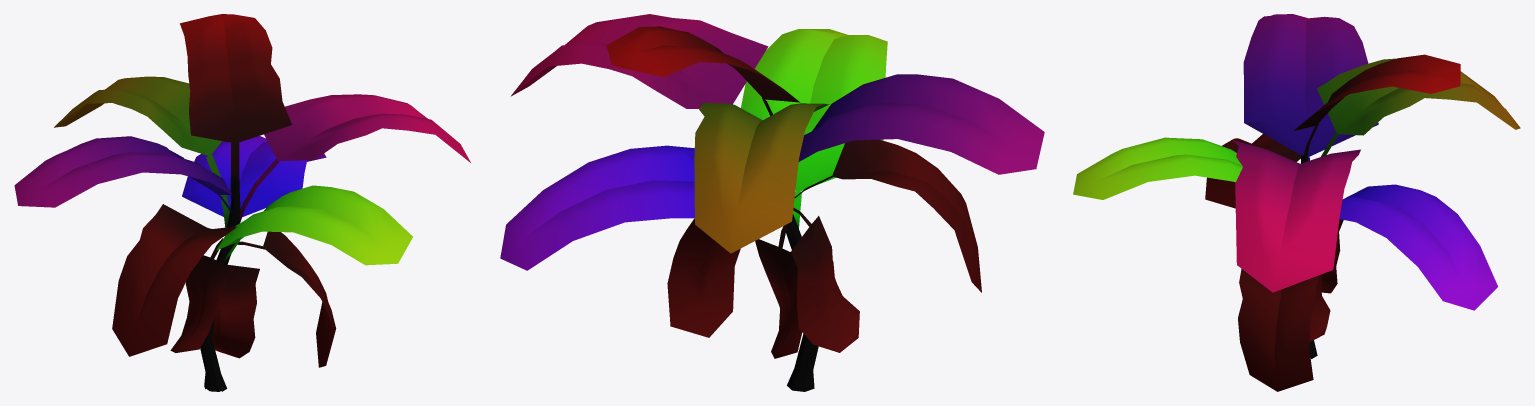
Rendered from Young_palm_var1.fbx.
The picture shows the model from 3 angles, left to right: view 1: azimuth 30°, elevation 25°; view 2: azimuth 150°, elevation 25°; view 3: azimuth 270°, elevation 25°; orthographic projection. The views are drawn at different scales.
Parts seen in each view (by area): view 1: Palm_var1_LOD0; view 2: Palm_var1_LOD0; view 3: Palm_var1_LOD0.
Part boxes in pixels (x1=…): Palm_var1_LOD0: x1=14, y1=14, x2=470, y2=391; Palm_var1_LOD0: x1=500, y1=14, x2=1044, y2=391; Palm_var1_LOD0: x1=1073, y1=14, x2=1520, y2=391.
Size of what is drawn, in the model's own units: 3.47 by 2.36 by 2.99.
